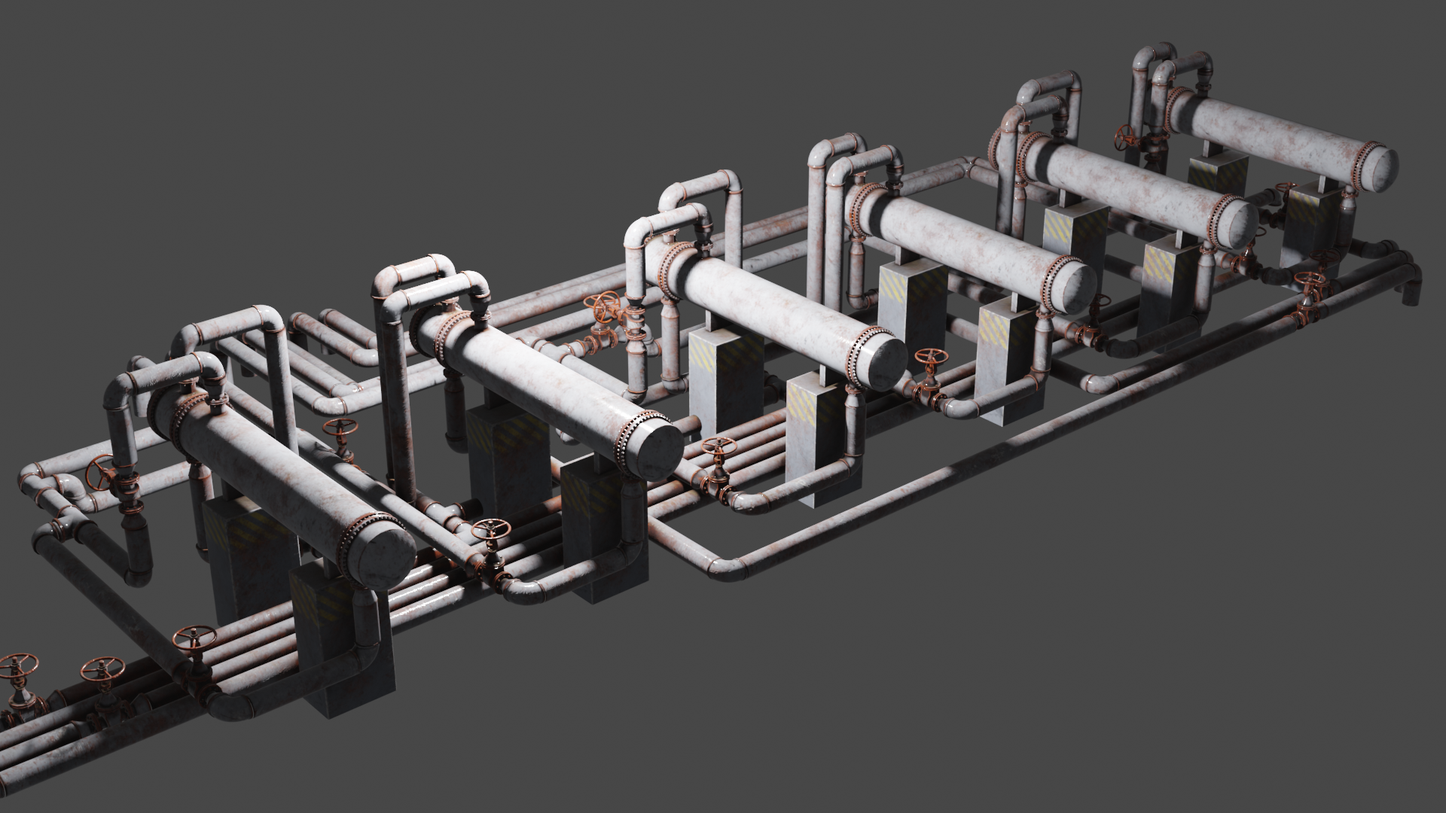HE_1: (1164, 81, 1397, 194)
HE_2: (983, 115, 1260, 254)
HE_3: (843, 176, 1097, 316)
HE_4: (641, 230, 910, 390)
HE_5: (405, 296, 683, 485)
HE_6: (143, 375, 416, 587)
